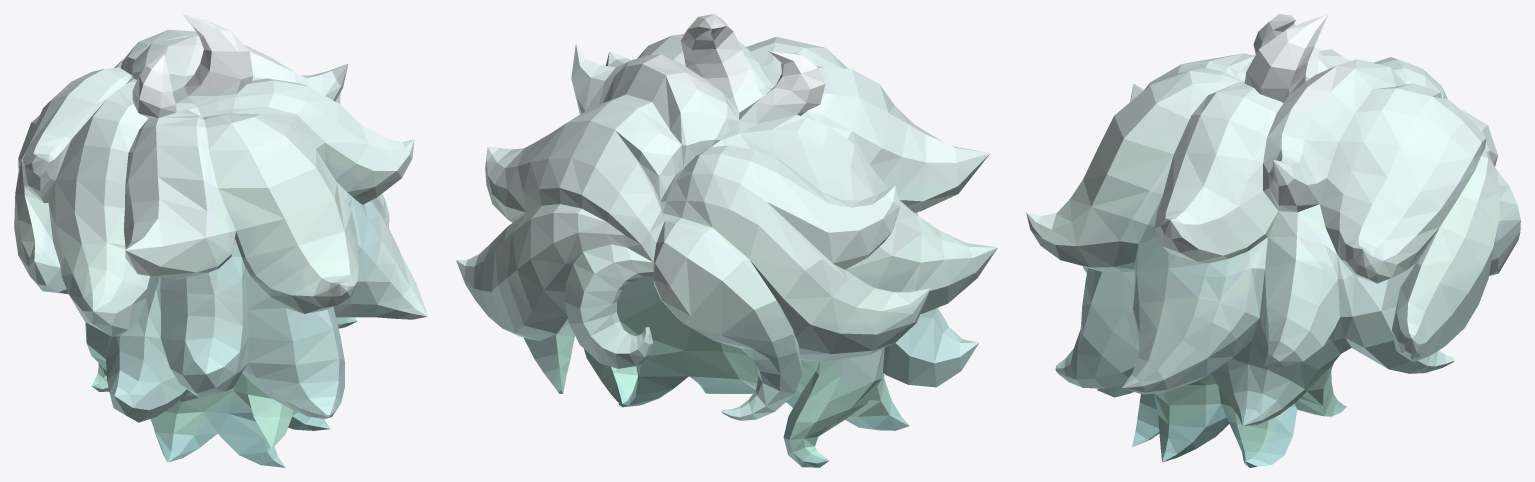
File: CharSkyKid_Hair_AP32MessyCurly.glb
3 views of the same model, side by side, from view 1: azimuth 30°, elevation 25°; view 2: azimuth 150°, elevation 25°; view 3: azimuth 270°, elevation 25° (orthographic). The views are drawn at different scales.
Visible parts, largest first — view 1: CharSkyKid_Hair_AP32MessyCurly; view 2: CharSkyKid_Hair_AP32MessyCurly; view 3: CharSkyKid_Hair_AP32MessyCurly.
Boxes of the visible parts, left/top/right/bottom form: CharSkyKid_Hair_AP32MessyCurly: left=14, top=14, right=427, bottom=467; CharSkyKid_Hair_AP32MessyCurly: left=456, top=14, right=997, bottom=467; CharSkyKid_Hair_AP32MessyCurly: left=1026, top=14, right=1520, bottom=467.
Bounding box in the file's own units: 4.15 × 4.43 × 4.67.
Materials: 1 (1 with a texture image).
